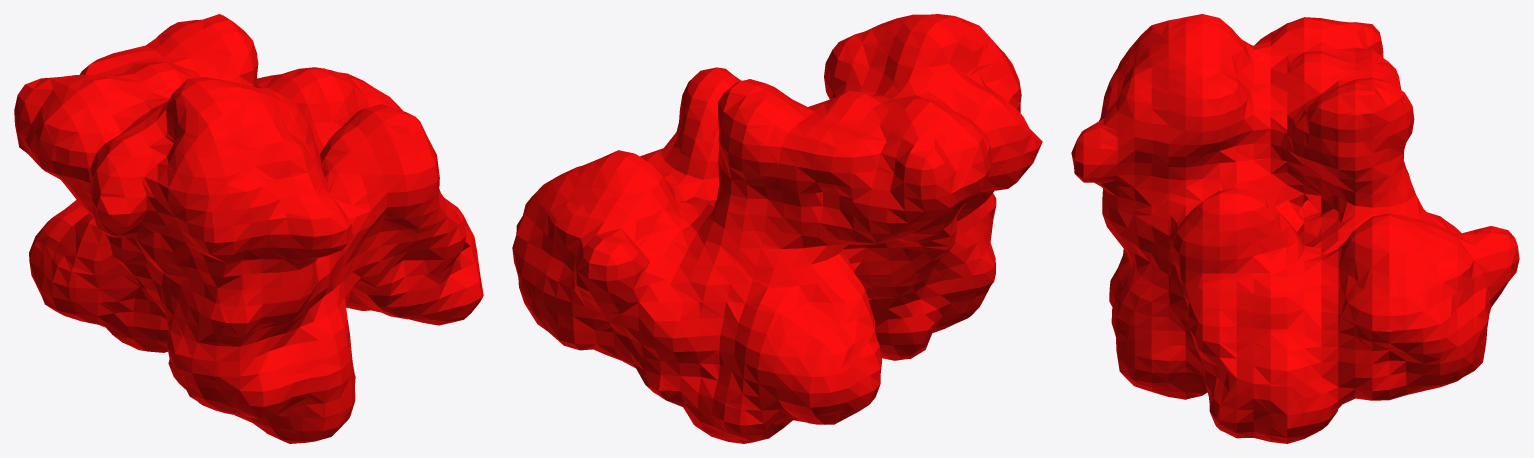
Rendered from prfC_coarse.dae.
The picture shows the model from 3 angles, left to right: view 1: azimuth 30°, elevation 25°; view 2: azimuth 150°, elevation 25°; view 3: azimuth 270°, elevation 25°; orthographic projection. The views are drawn at different scales.
Parts seen in each view (by area): view 1: prfC; view 2: prfC; view 3: prfC.
Part boxes in pixels (bbox=[...]): prfC: bbox=[14, 14, 483, 443]; prfC: bbox=[512, 14, 1042, 443]; prfC: bbox=[1071, 14, 1519, 443].
Size of the model in its own units: 91.52 by 76.61 by 91.29.
